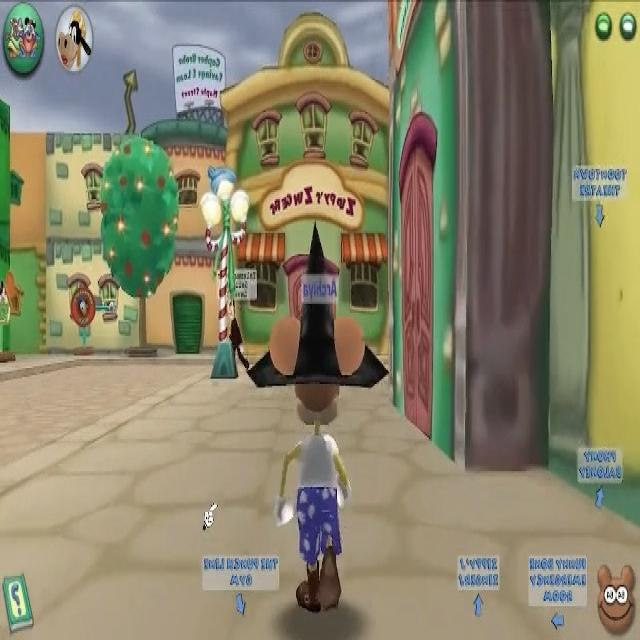telemarketer: (220, 270, 256, 378)
